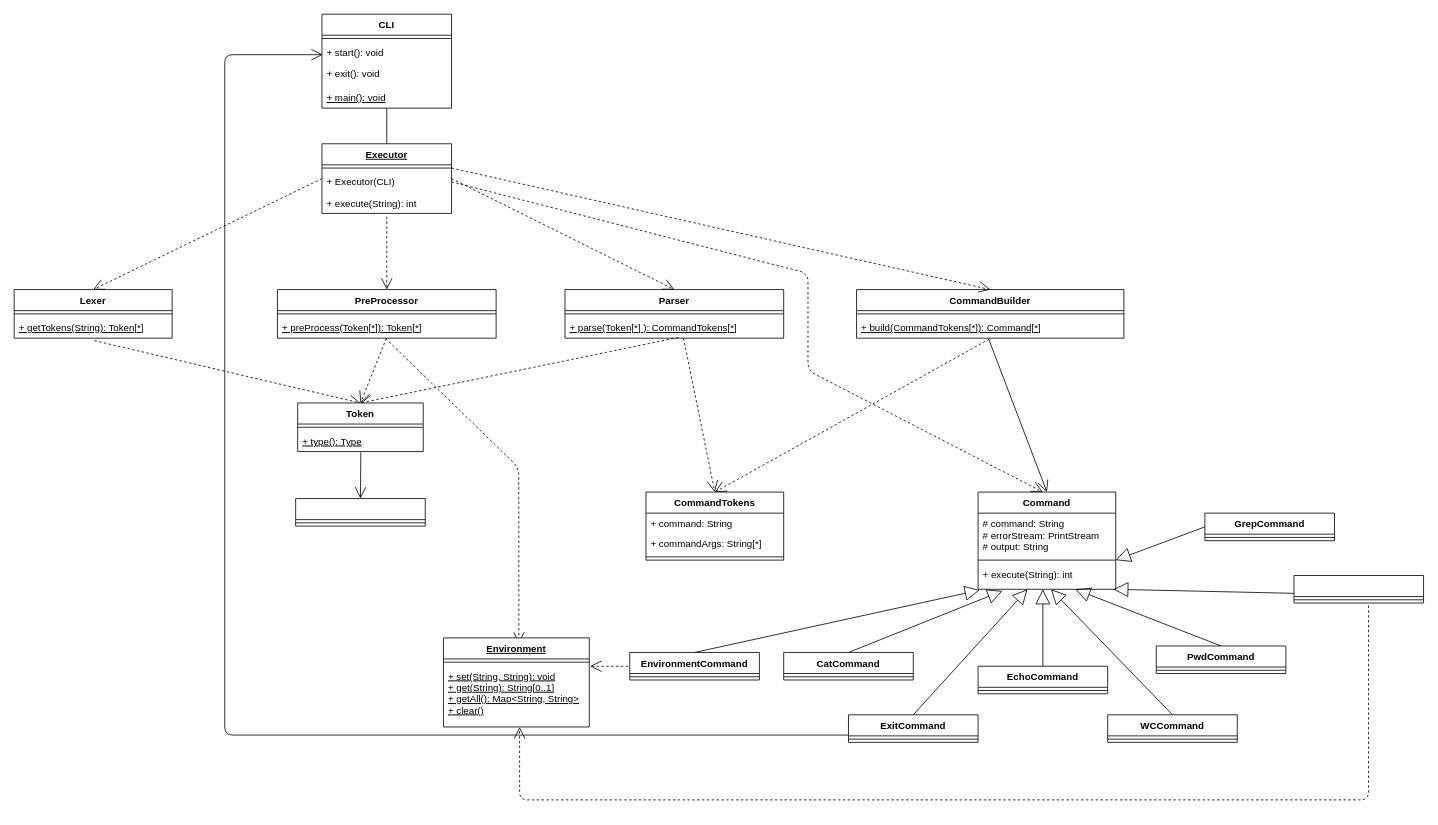
Some shapes in this 1438 by 825 pixel diagram are drawn without their labels. The centre of each missing label's shape, as x and y in pixels:
"OuterCommand" belongs at (1358,589).
"Type" belongs at (360,512).
